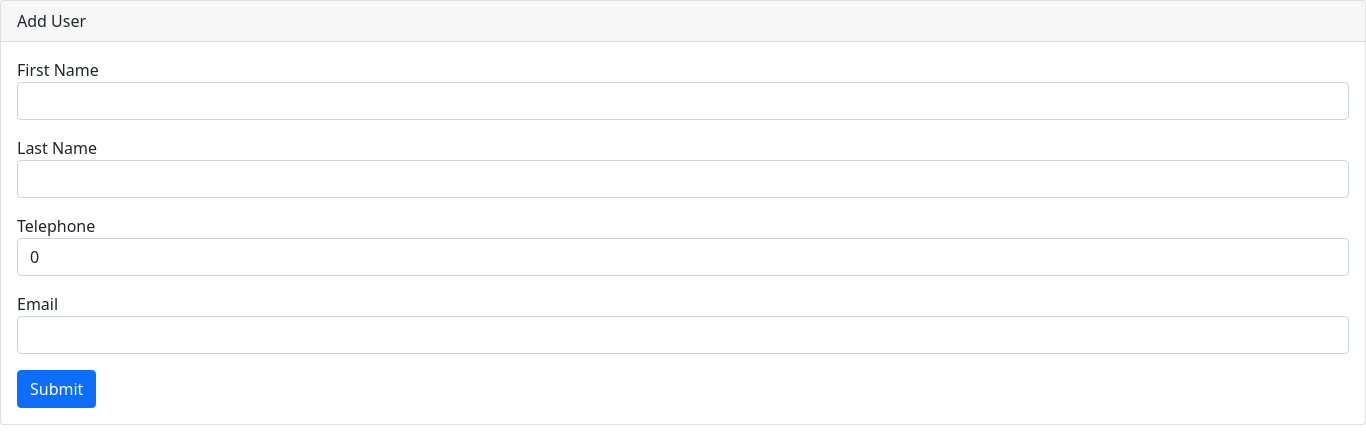
Test: <AddUser /> › should show user added successfully screen
Expected: the text "Add Another" is not shown
Click the button "Submit".
click(57, 389)  # box [17,370,96,408]
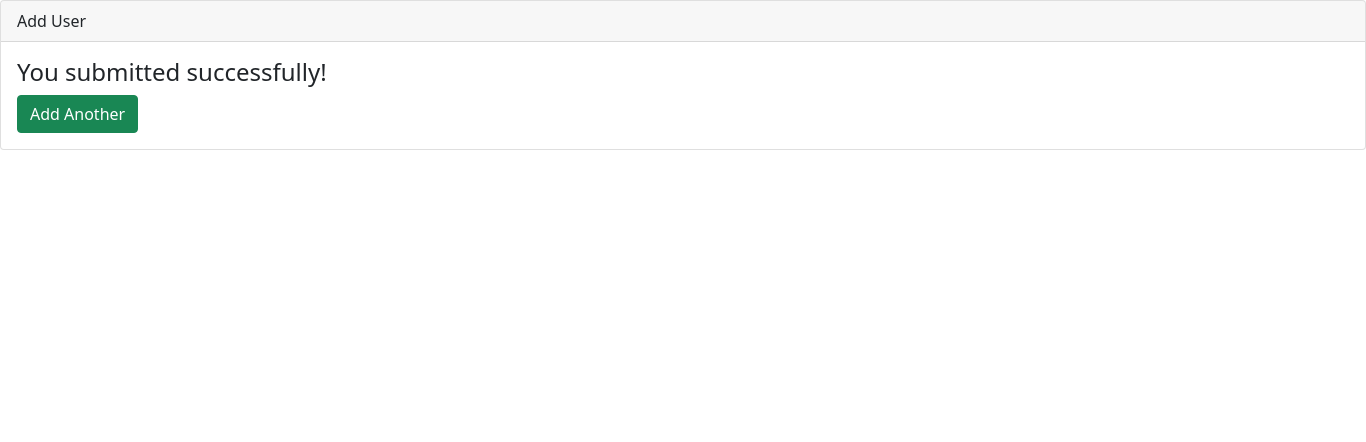
Expected: the heading "You submitted successfully!" is shown, [17,55,327,88]
